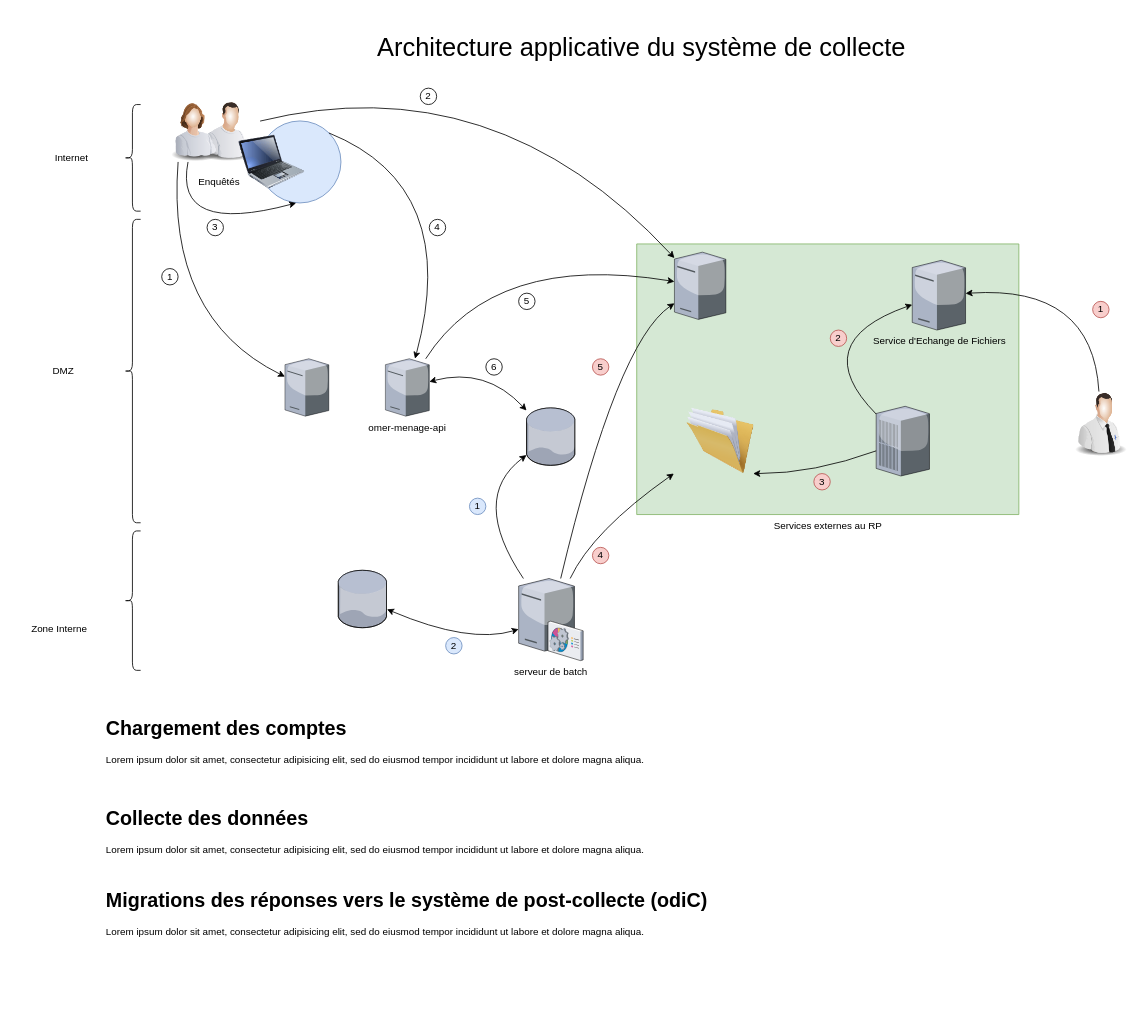
Some shapes in this 1147 by 1031 pixel diagram are drawn without their labels. Here are the shapes that lost their labels. From the top down, the centre of each, then its label:
At [271,161]: "Application Javascript".
At [700,285]: "fédération d'identité".
At [306,387]: "omer-menage-ihm".
At [550,436]: "base Homere".
At [720,440]: "Applishare".
At [902,441]: "Serveur Rundeck".
At [1100,424]: "Seven/cogetefi".
At [362,598]: "base odiC".
